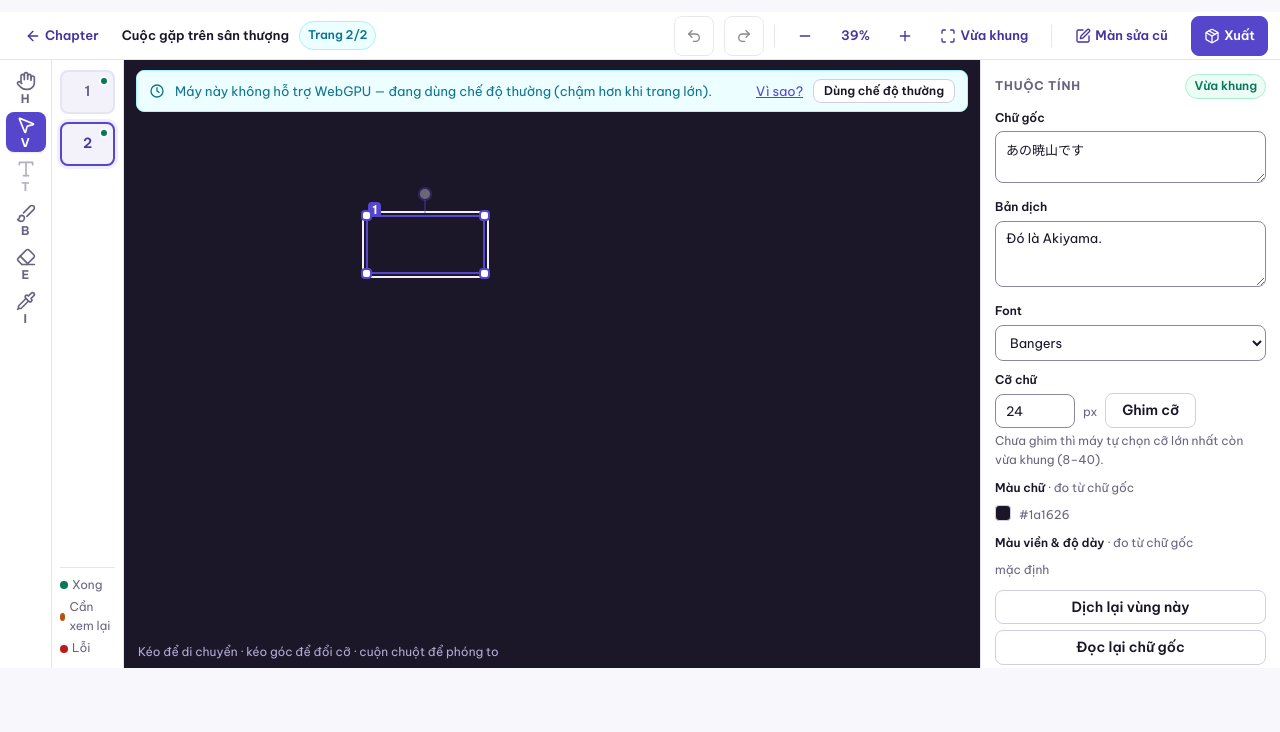
Scenario: cọ xoá chữ › "Bỏ mặt nạ" xoá trắng
The width and height of the screenshot is (1280, 732).
Expected: the button named "Về 100%" is shown, [828, 16, 884, 56]
Expected: the button named "Phóng to" is enabled, [886, 16, 926, 56]
Click the button named "Cọ xoá chữ, phím B" at (26, 220), box [6, 200, 46, 240]
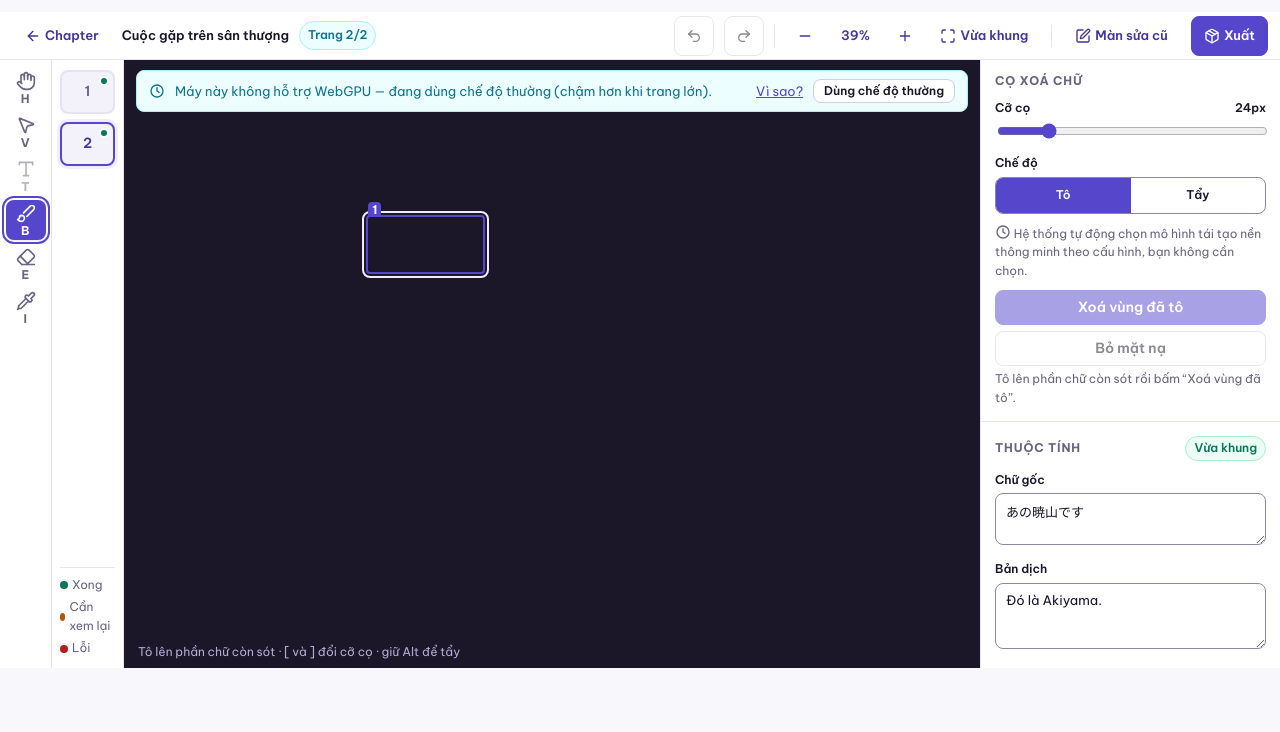
Press the mouse on the element with test id "cv-stage" at (552, 375), box [124, 112, 980, 637]
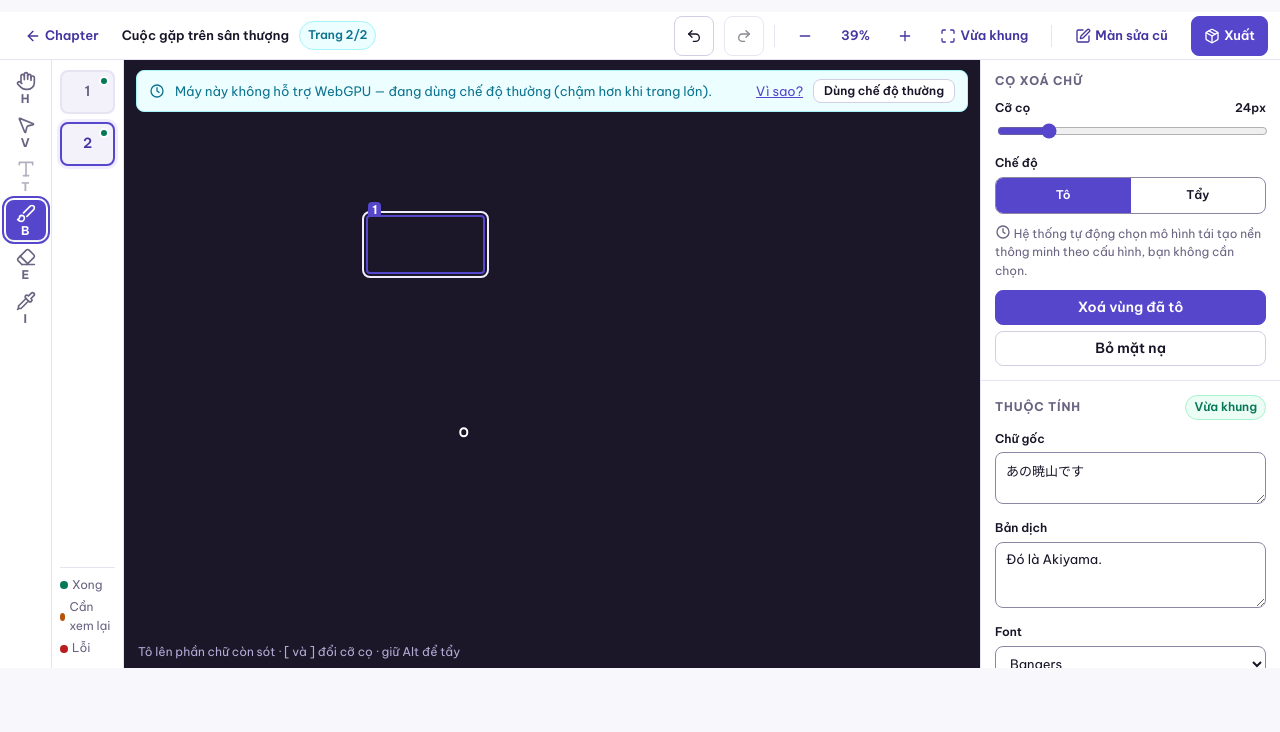
Now the button "Xoá vùng đã tô" is enabled, box [995, 290, 1266, 325]
Click the button "Bỏ mặt nạ" at (1130, 348), box [995, 331, 1266, 366]
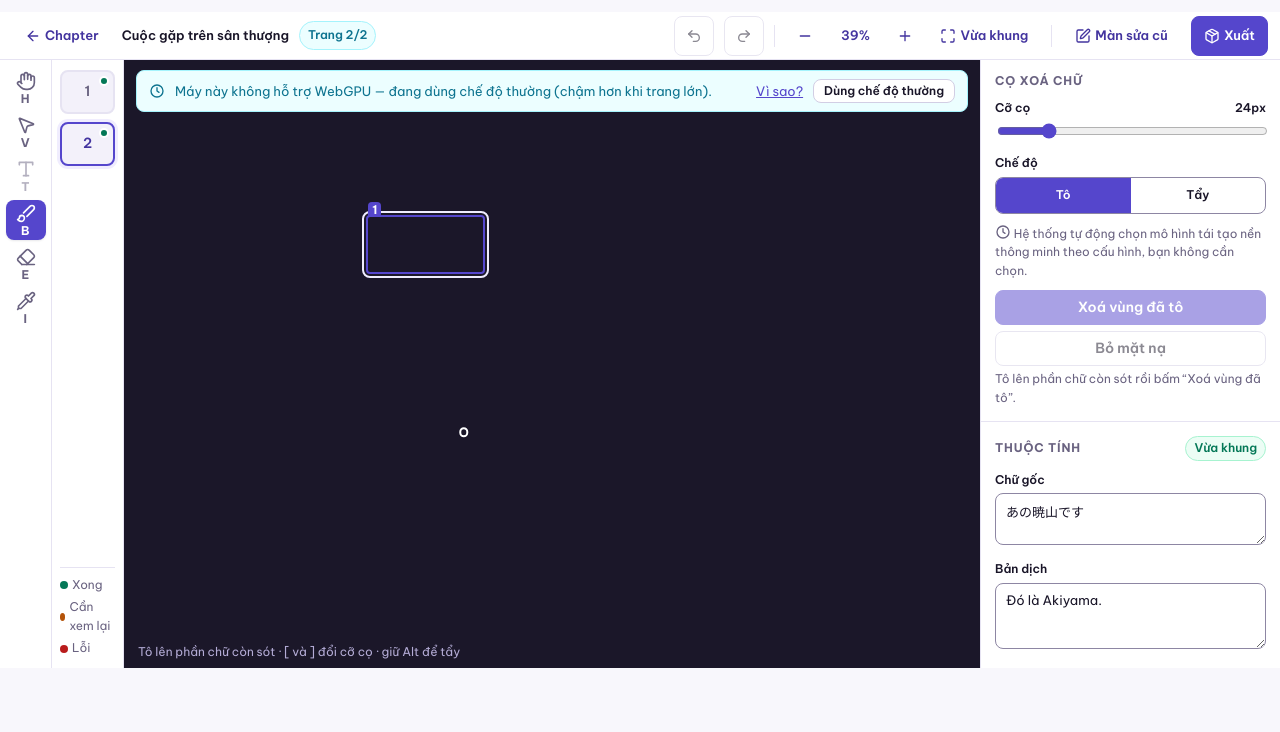
Now the button "Xoá vùng đã tô" is disabled, box [995, 290, 1266, 325]
